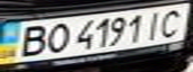1: (124, 11, 148, 43), (90, 16, 112, 48)
4: (72, 17, 96, 51)
9: (109, 14, 130, 47)
B: (9, 22, 51, 58)
C: (154, 6, 190, 38)
I: (142, 8, 169, 39)
O: (39, 20, 72, 54)
